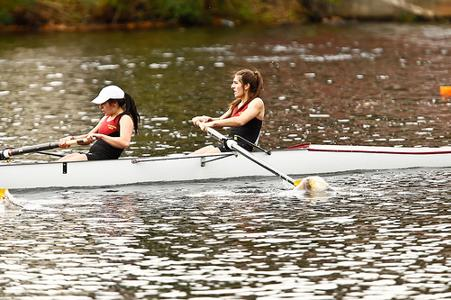person: (186, 69, 267, 156)
